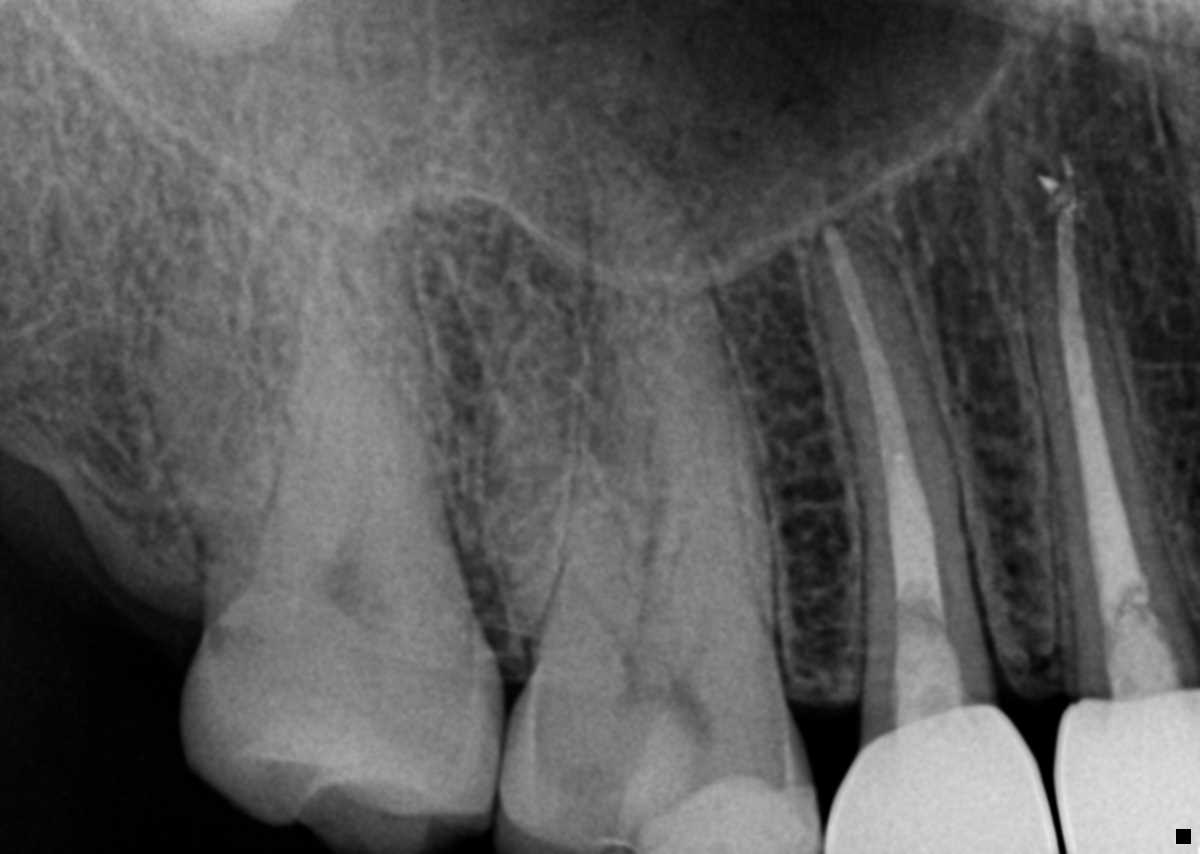Distal Canal: (557, 549, 629, 655)
Distal Root: (145, 251, 347, 590), (484, 305, 641, 639)
Main Root: (810, 220, 1001, 696), (1029, 159, 1184, 650)
Mesial Canal: (682, 524, 716, 678)
Mesial Root: (266, 285, 444, 541), (645, 284, 775, 616)
Palatal Root: (228, 115, 468, 643), (547, 129, 770, 629)
Root Canal Filling: (824, 229, 962, 691), (1051, 193, 1157, 636)
